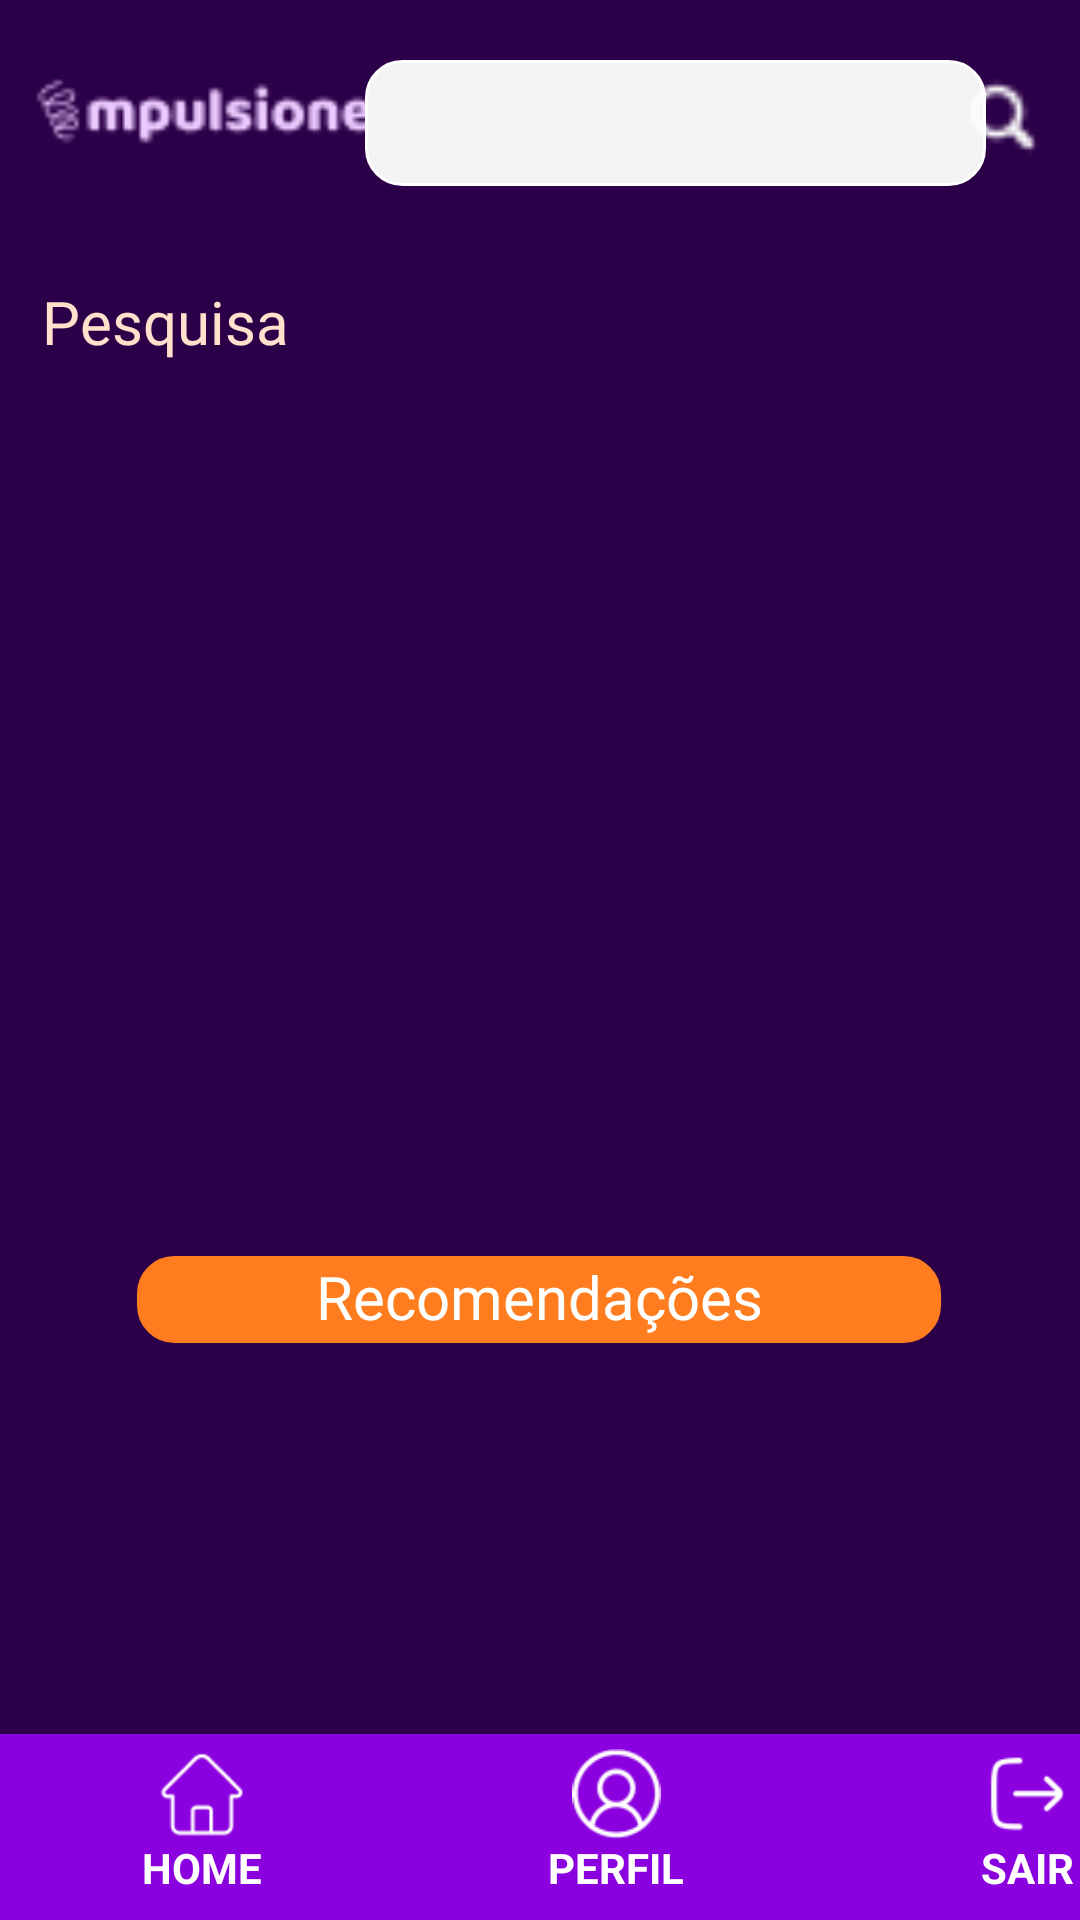

Named icons in this screenshot (1080 × 1920) and their bounding boxes, (x1, y1, x2, y2):
lupa: (960, 72, 1035, 162)
